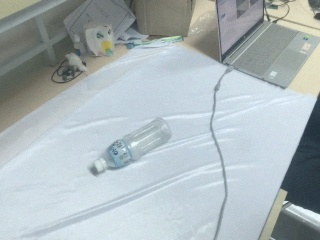bottle: (87, 117, 173, 175)
box: (130, 1, 195, 40)
